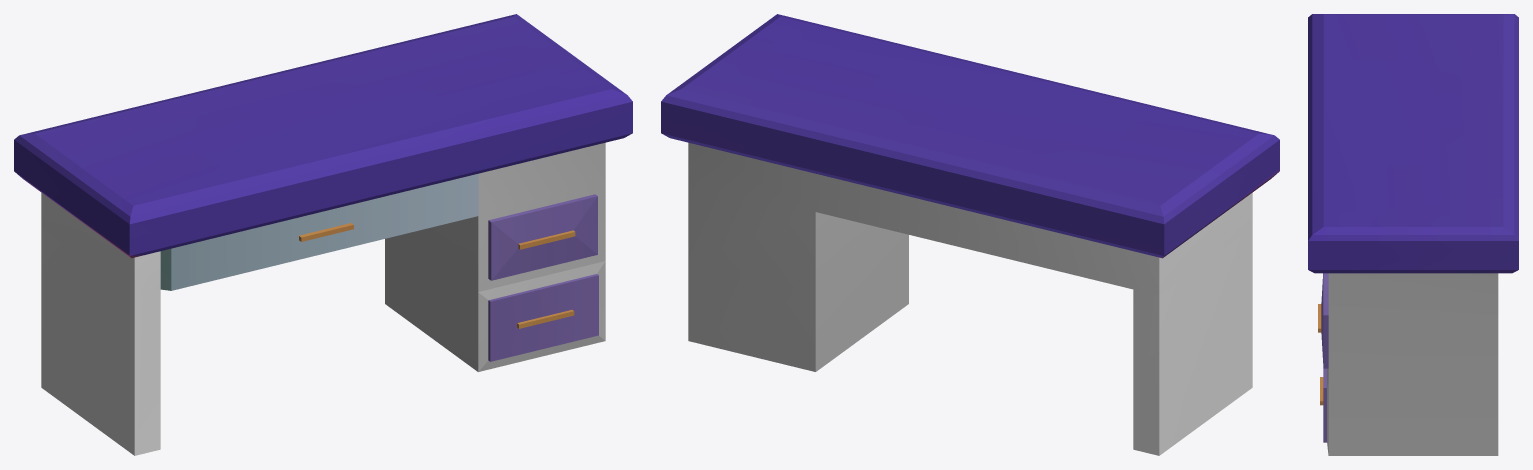
File: sp_table_desktop_a.fbx
The picture shows the model from 3 angles, left to right: view 1: azimuth 30°, elevation 25°; view 2: azimuth 150°, elevation 25°; view 3: azimuth 270°, elevation 25°; orthographic projection. The views are drawn at different scales.
Visible parts, largest first — view 1: sp_table_desktop_a; view 2: sp_table_desktop_a; view 3: sp_table_desktop_a.
Part boxes in pixels (x1,y1,x2,y2): sp_table_desktop_a: (14, 14, 632, 455); sp_table_desktop_a: (661, 14, 1279, 455); sp_table_desktop_a: (1308, 14, 1518, 455).
Bounding box in the file's own units: 139 × 67.05 × 55.58.
